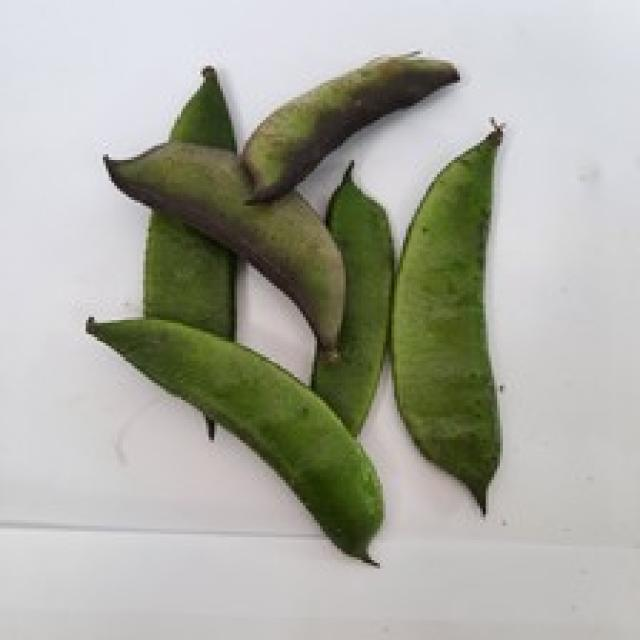Bean: (86, 46, 506, 563), (83, 311, 383, 566), (100, 137, 346, 357), (388, 114, 503, 514), (237, 46, 460, 203), (308, 157, 392, 437)
